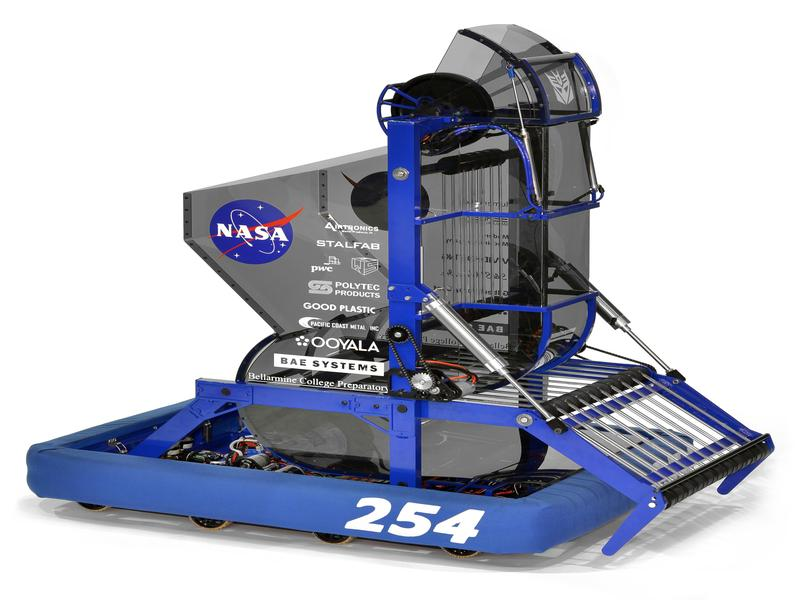robot: (28, 17, 770, 559)
